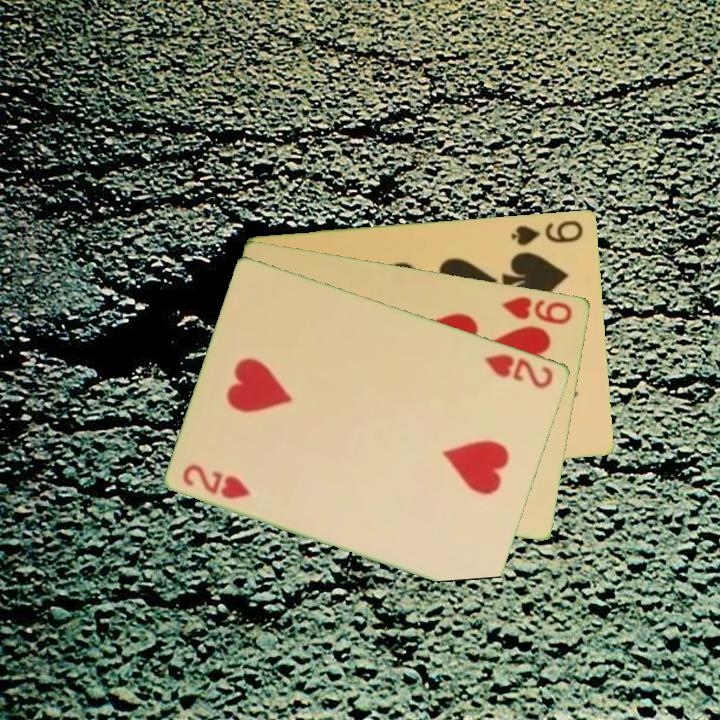2h: (179, 460, 254, 502), (482, 350, 557, 391)
9h: (498, 292, 576, 327)
9s: (508, 216, 586, 248)
